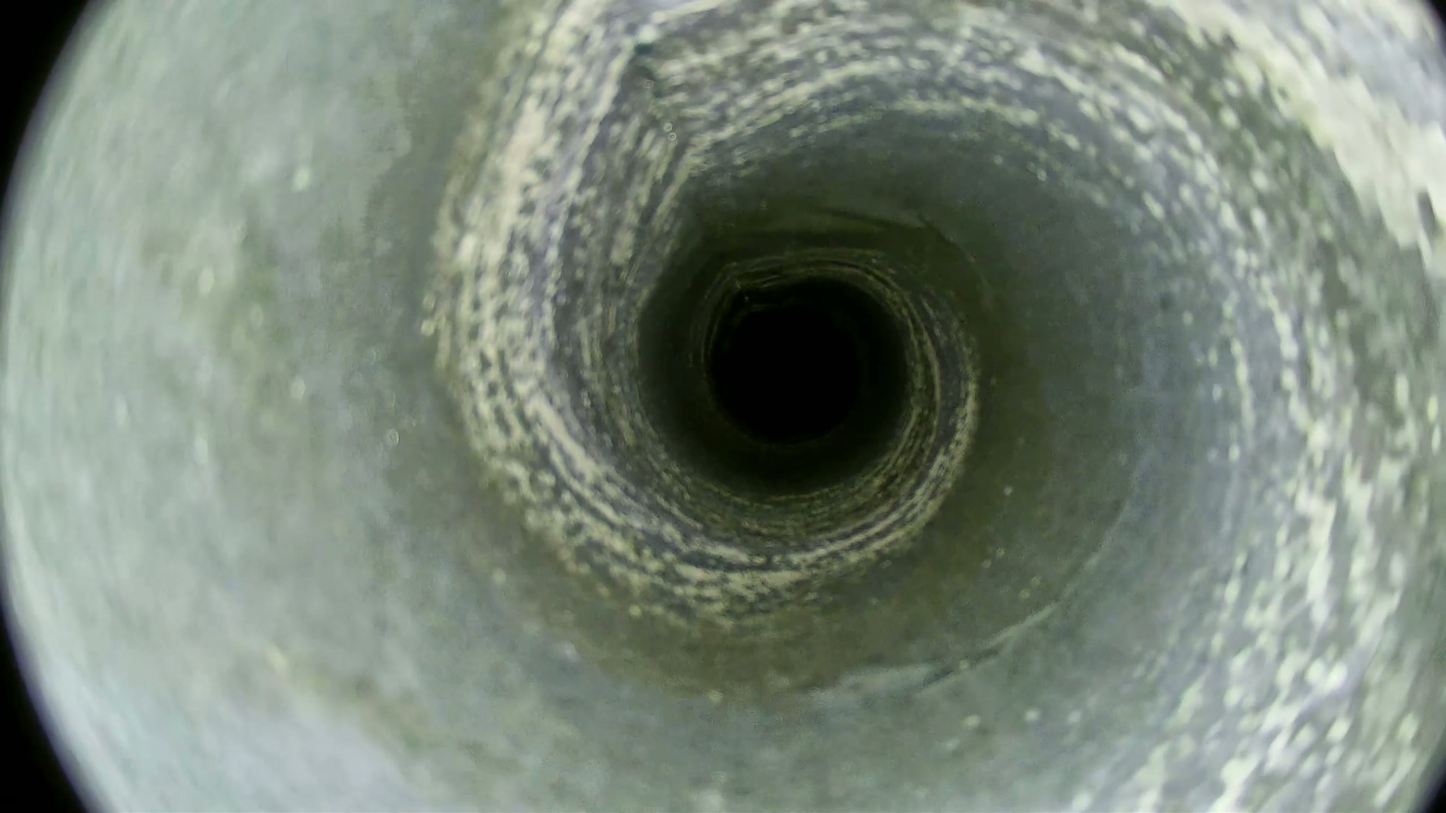hole: (718, 305, 858, 443)
